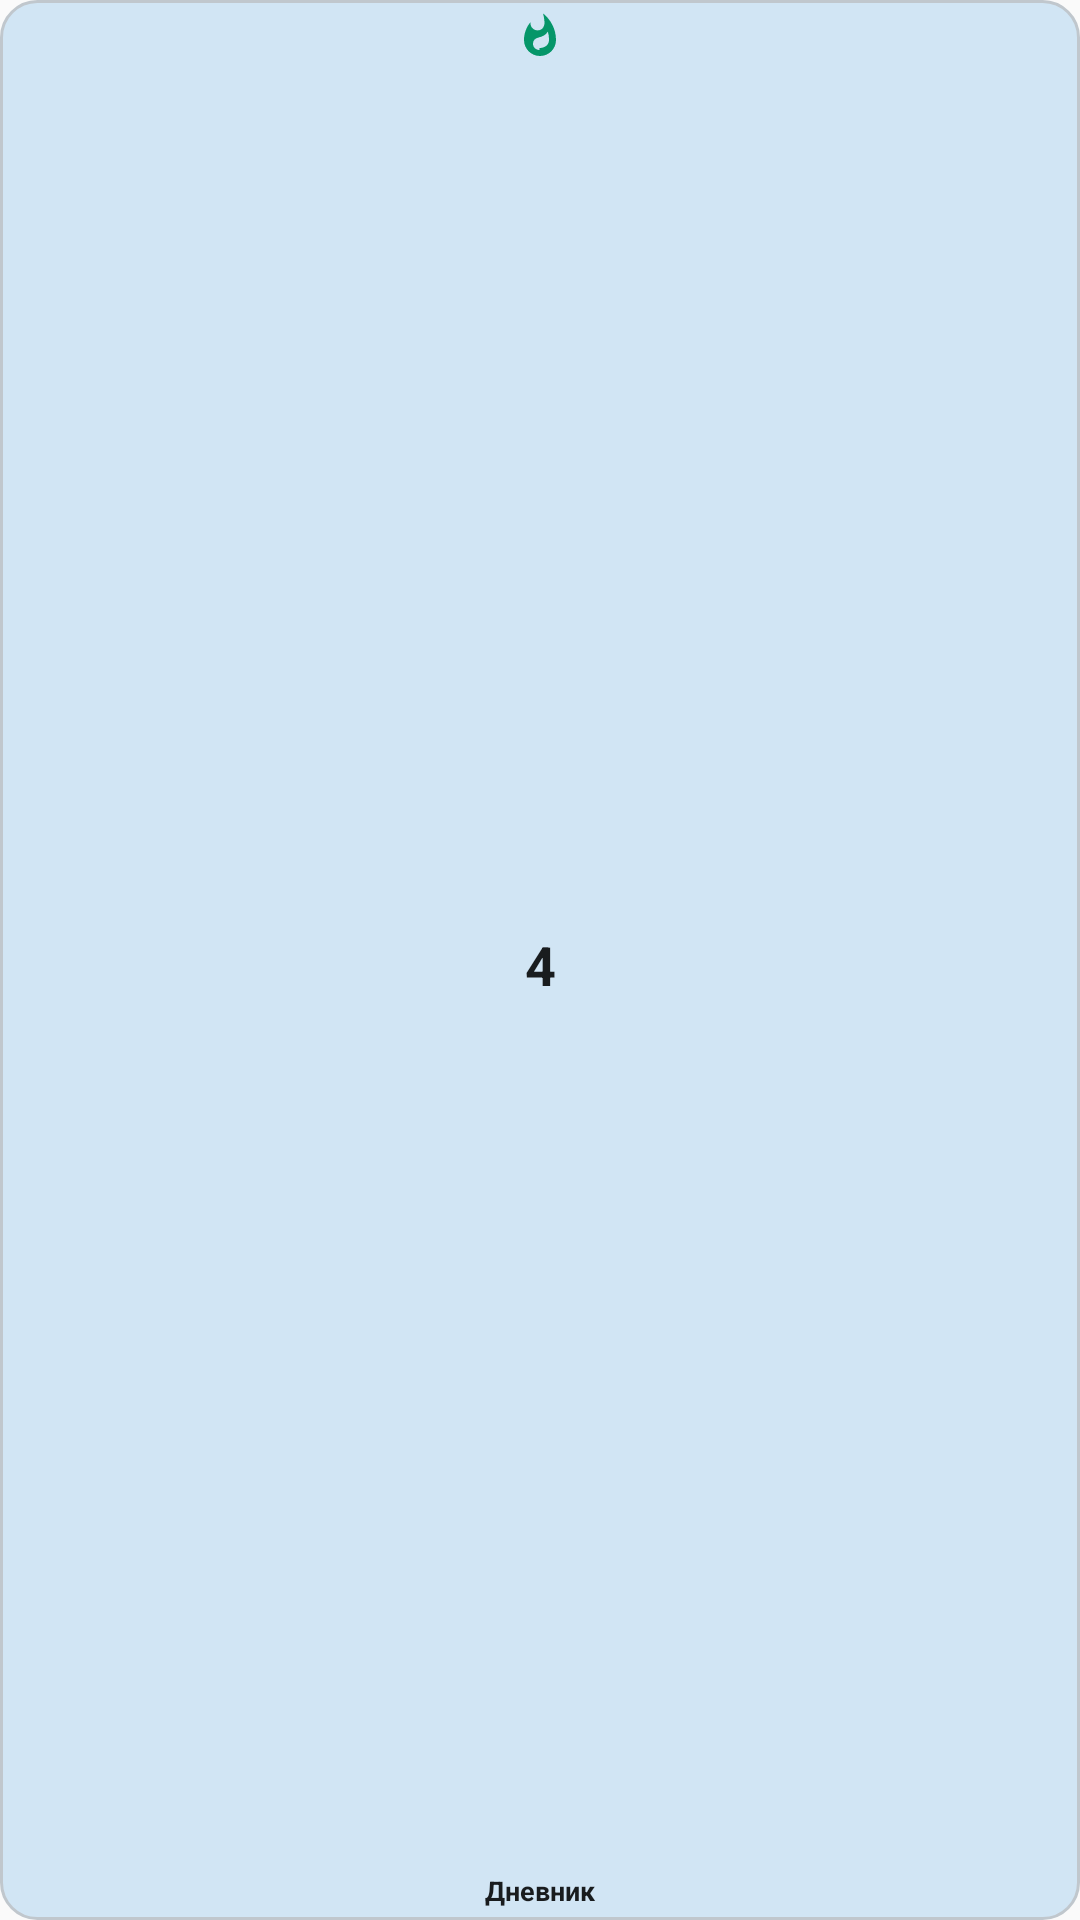

Where icons sit on this 1080*1920 app screen, as (x1, y1, x2, y2):
widget flame: (524, 13, 556, 56)
